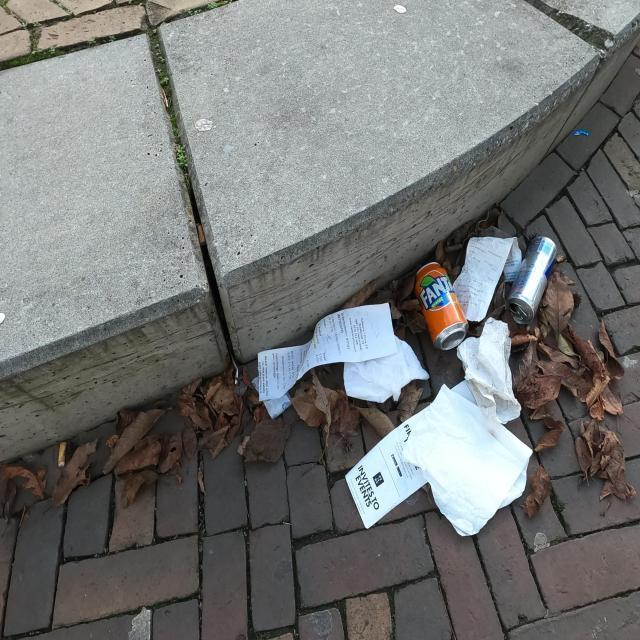Can-Metal: (414, 262, 469, 351), (506, 234, 558, 326)
Paper: (401, 382, 534, 538), (344, 379, 475, 531), (257, 302, 399, 402), (457, 316, 522, 425), (452, 236, 522, 322), (344, 336, 431, 404)
